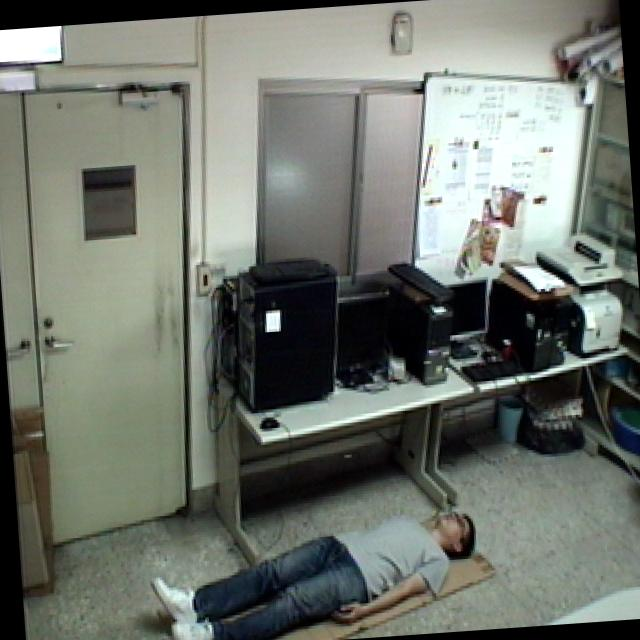lie: (134, 487, 488, 640)
